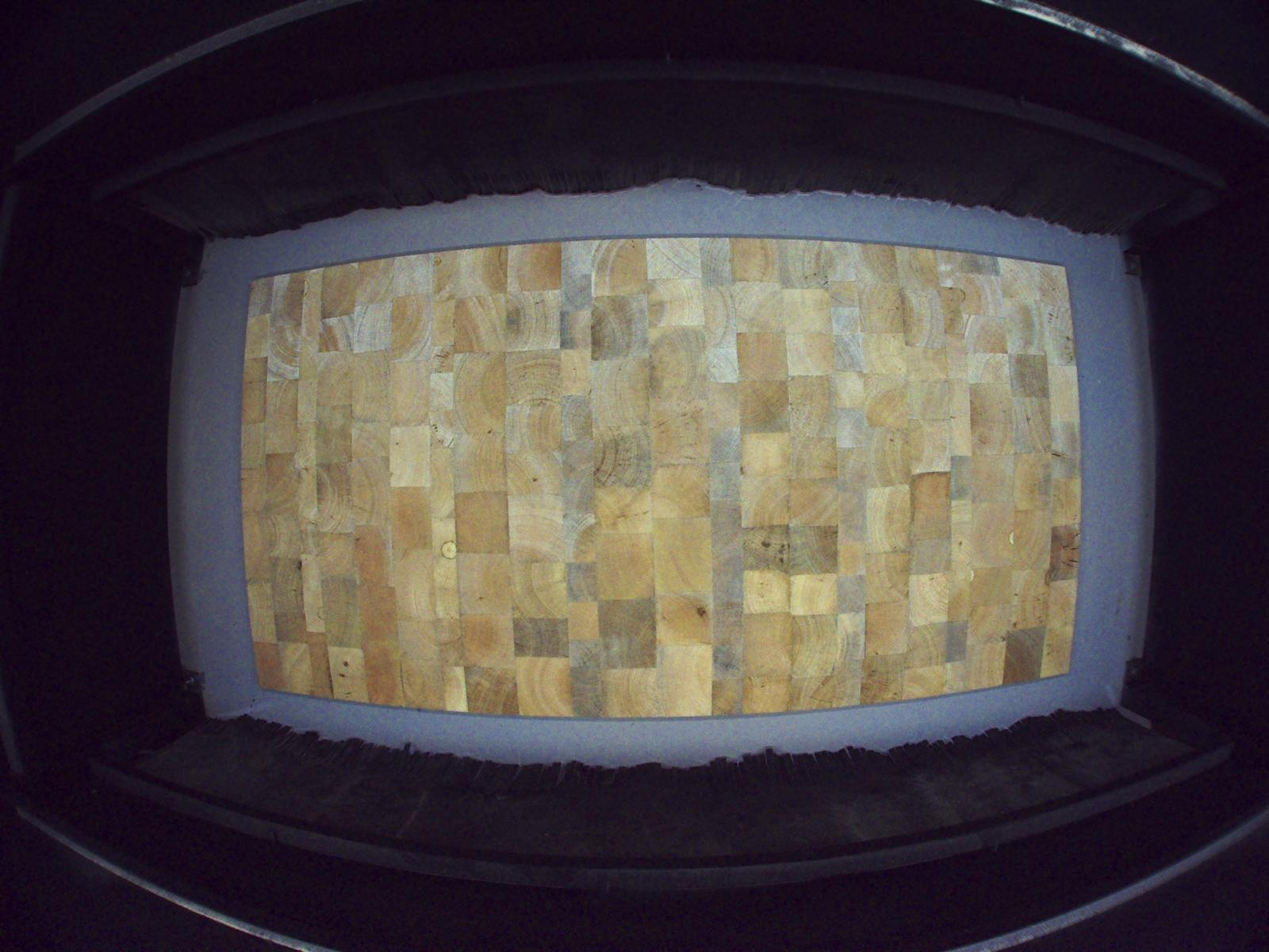nudillo: (695, 602, 709, 618)
